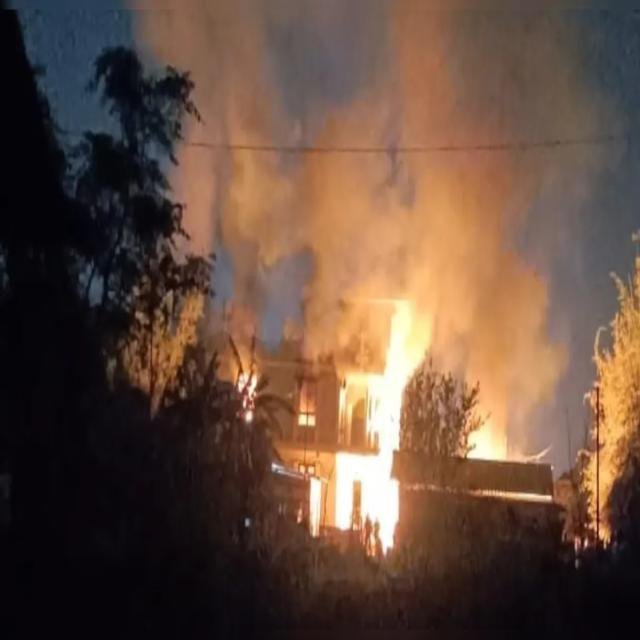fire: (337, 300, 426, 552)
